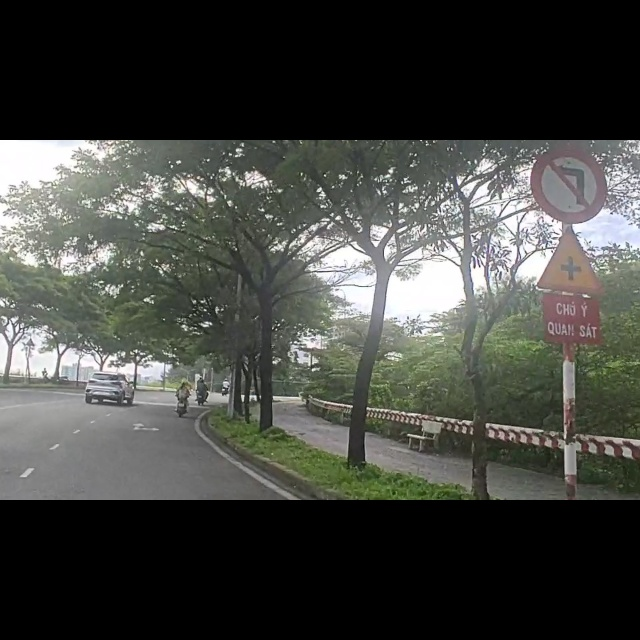bien_cam: (530, 5, 620, 147), (536, 151, 612, 270)
